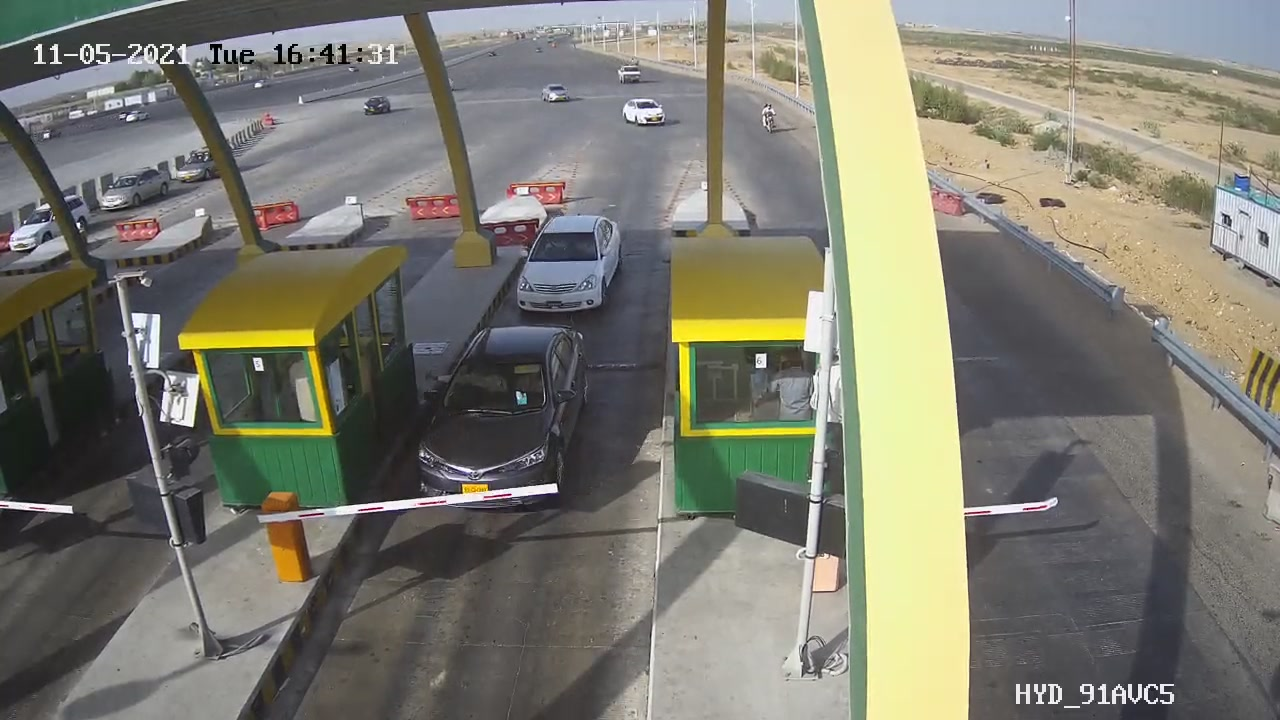F1: (392, 310, 626, 523), (491, 201, 644, 327)
